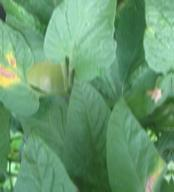Tomato Early blight leaf: (0, 2, 51, 121)
